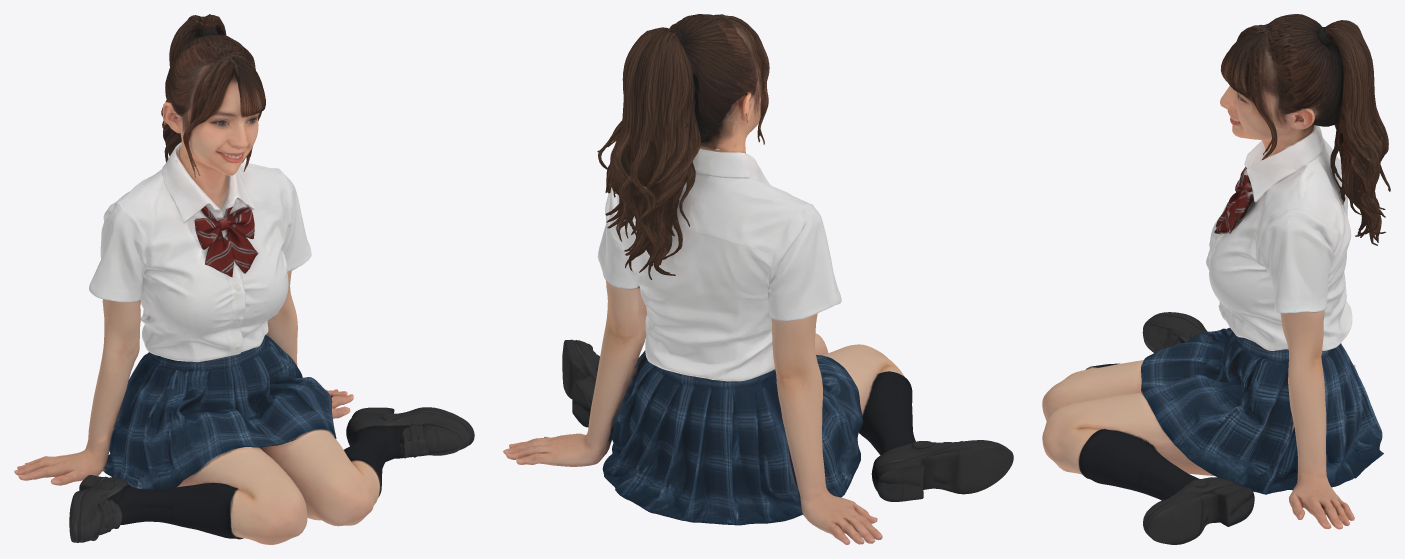
Rendered from woman_wearing_swimsuit.glb.
The picture shows the model from 3 angles, left to right: view 1: azimuth 30°, elevation 25°; view 2: azimuth 150°, elevation 25°; view 3: azimuth 270°, elevation 25°; orthographic projection. The views are drawn at different scales.
Visible parts, largest first — view 1: Mesh_0_modddif_material_0_0; view 2: Mesh_0_modddif_material_0_0; view 3: Mesh_0_modddif_material_0_0.
Boxes of the visible parts, x1=… form: Mesh_0_modddif_material_0_0: x1=14, y1=14, x2=474, y2=544; Mesh_0_modddif_material_0_0: x1=503, y1=14, x2=1013, y2=544; Mesh_0_modddif_material_0_0: x1=1042, y1=14, x2=1390, y2=544.
Bounding box in the file's own units: 0.9988 × 1 × 0.7159.
1 material, 1 textured.
